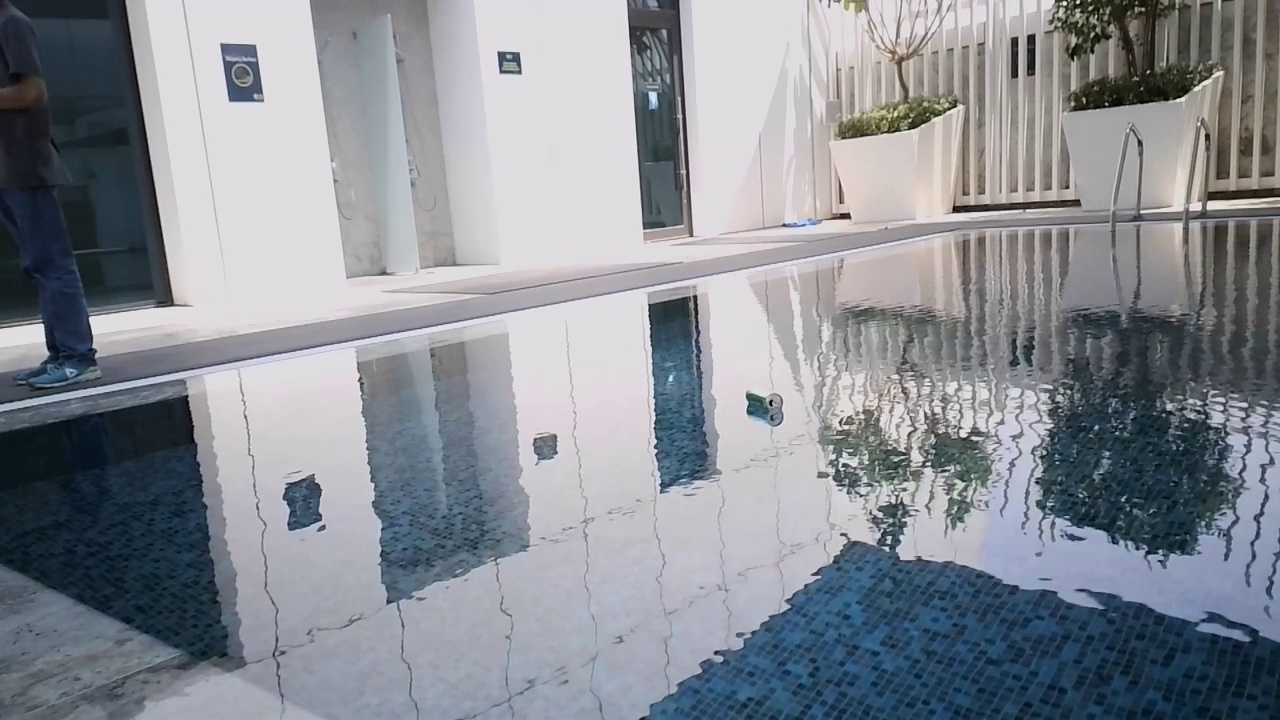debris: (741, 383, 783, 415)
